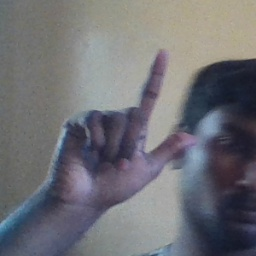L: (49, 49, 201, 204)
